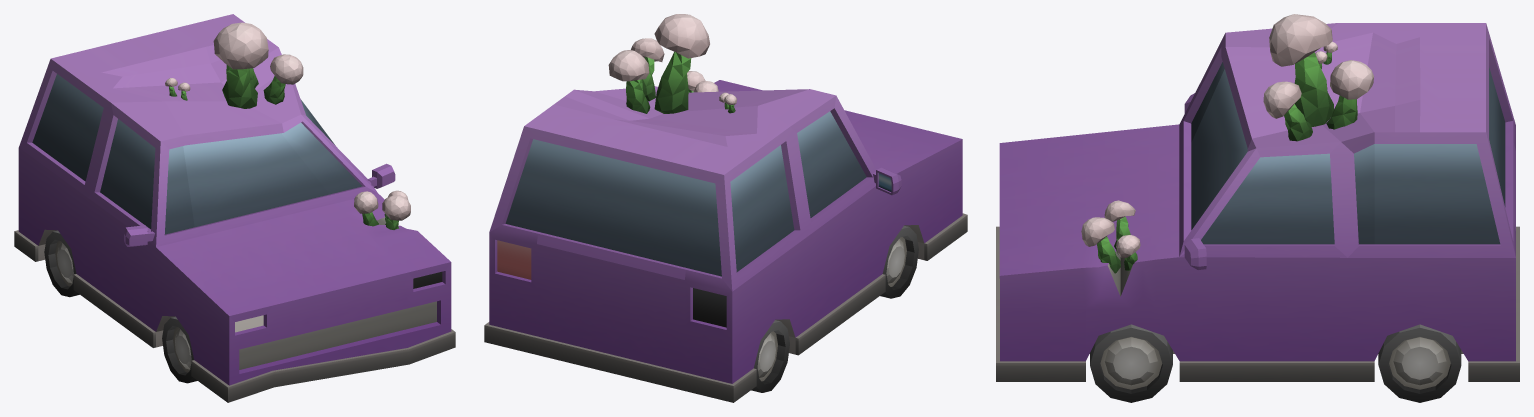
File: Car_01_Infested_02_FBX.fbx
The picture shows the model from 3 angles, left to right: view 1: azimuth 30°, elevation 25°; view 2: azimuth 150°, elevation 25°; view 3: azimuth 270°, elevation 25°; orthographic projection. The views are drawn at different scales.
Parts seen in each view (by area): view 1: Base_18; view 2: Base_18; view 3: Base_18.
Part boxes in pixels (box(x1,y1,x2,y2)): Base_18: box(14, 14, 455, 402); Base_18: box(484, 14, 967, 402); Base_18: box(996, 14, 1519, 402).
Bounding box in the file's own units: 236 × 232 × 327.
